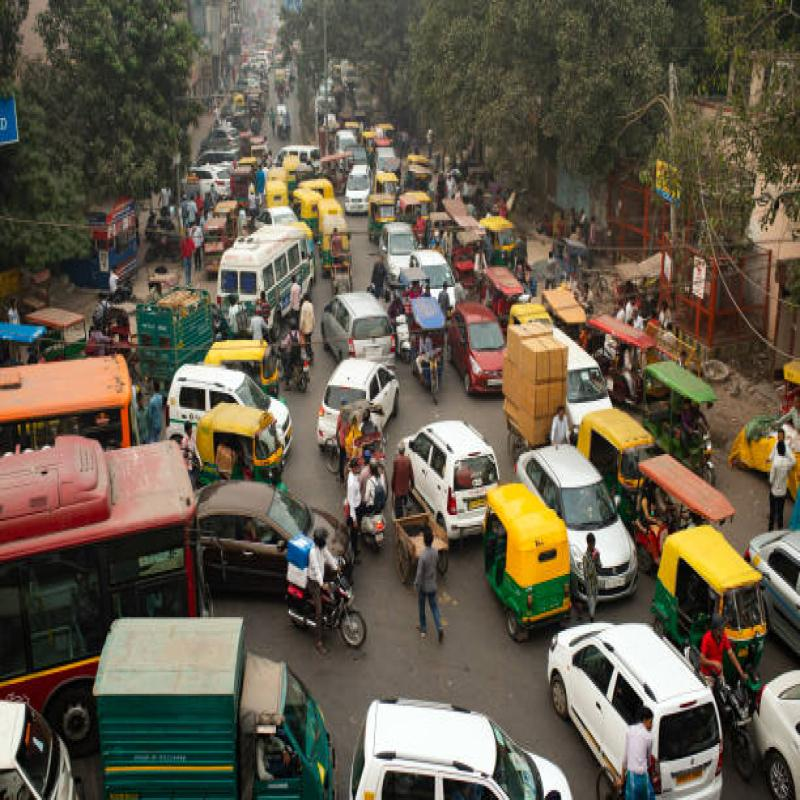car: (546, 606, 714, 800), (335, 677, 550, 800), (523, 428, 620, 606), (404, 410, 504, 550), (167, 359, 280, 465), (318, 350, 390, 442), (320, 265, 381, 369)
